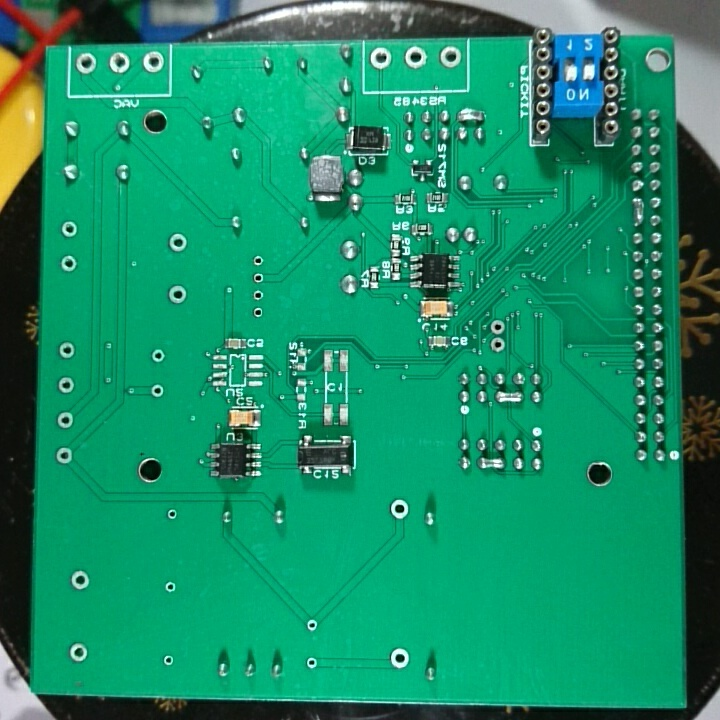F: (385, 645, 416, 673), (402, 44, 431, 72), (368, 43, 394, 72), (73, 50, 99, 77), (140, 48, 166, 75), (106, 50, 131, 78), (438, 43, 461, 72), (165, 232, 191, 253), (67, 641, 90, 664), (55, 340, 78, 363), (166, 283, 189, 306), (68, 569, 91, 591), (58, 220, 82, 241), (55, 374, 77, 396), (388, 498, 408, 521), (54, 446, 75, 467), (59, 252, 77, 275), (488, 335, 507, 355), (148, 347, 167, 366), (56, 411, 74, 430), (489, 318, 507, 336), (250, 252, 268, 270), (148, 381, 165, 400), (303, 654, 319, 673), (303, 617, 320, 634), (251, 286, 267, 304), (162, 581, 179, 596), (165, 506, 179, 523), (162, 653, 177, 668), (250, 306, 266, 320), (251, 270, 265, 286)
P: (474, 455, 508, 475), (455, 107, 489, 124), (630, 194, 647, 227), (493, 390, 525, 405)
